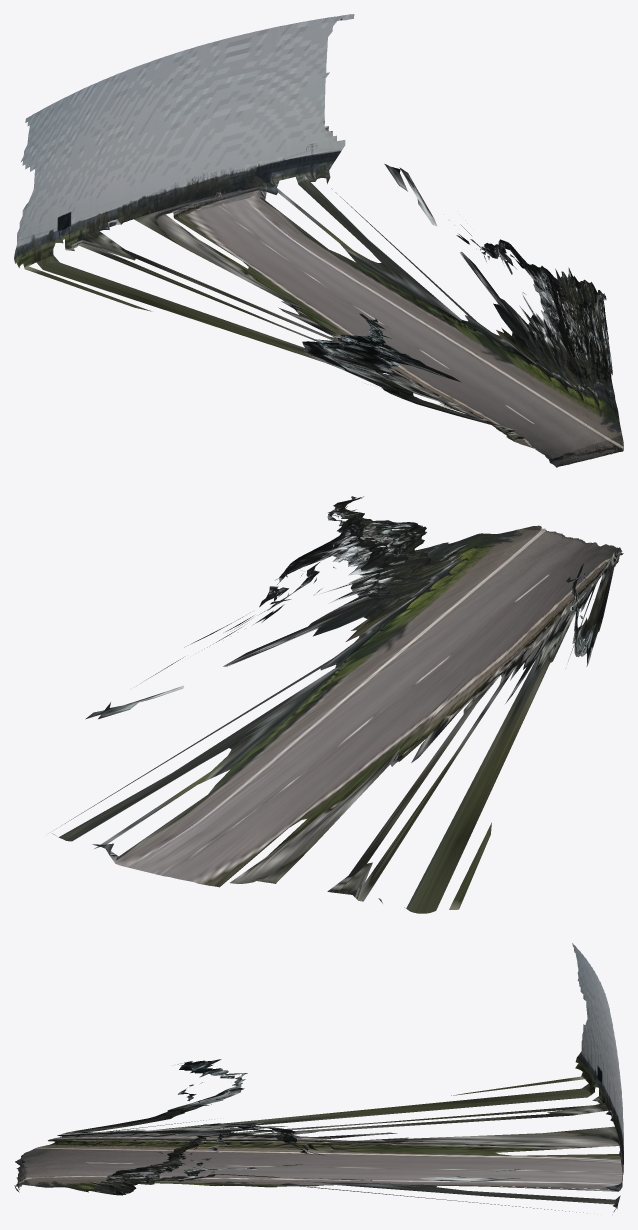
3 views of the same model, one above another, from view 1: azimuth 30°, elevation 25°; view 2: azimuth 150°, elevation 25°; view 3: azimuth 270°, elevation 25° (orthographic). The views are drawn at different scales.
Parts seen in each view (by area): view 1: defaultobject; view 2: defaultobject; view 3: defaultobject.
Boxes of the visible parts, x1,y1,x2,y2 form: defaultobject: (14, 14, 623, 467); defaultobject: (52, 496, 623, 913); defaultobject: (14, 943, 623, 1213).
Size of the model in its own units: 25.48 by 11.79 by 44.46.
Materials: 1 (1 with a texture image).
